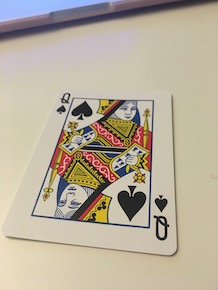QueenOfSpades: (1, 86, 185, 259)
